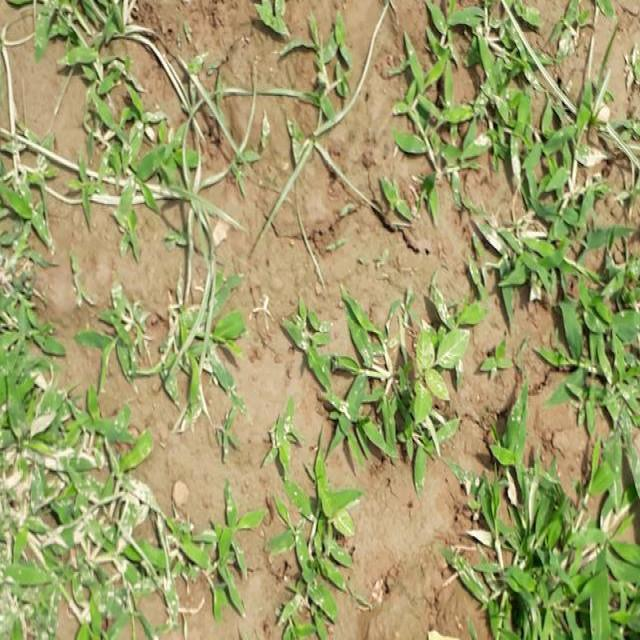weed: (433, 0, 632, 388), (286, 291, 478, 464), (496, 416, 640, 640)
